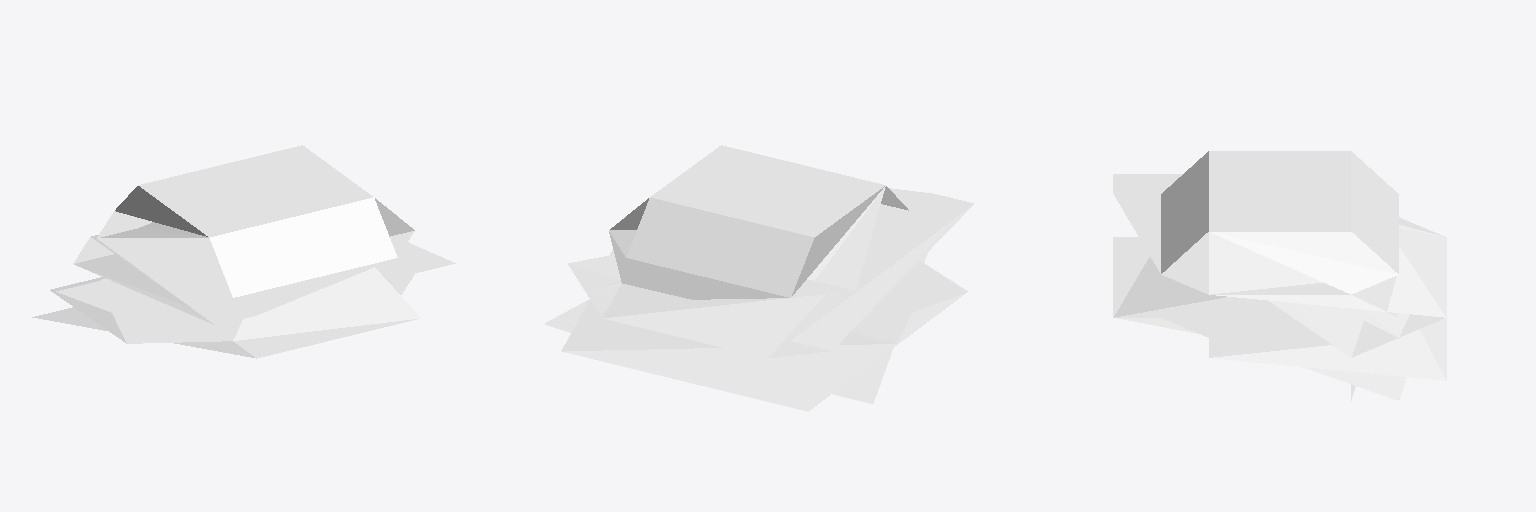
File: Character0_Run2.obj
The picture shows the model from 3 angles: view 1: azimuth 30°, elevation 25°; view 2: azimuth 150°, elevation 25°; view 3: azimuth 270°, elevation 25°; orthographic projection.
Bounding box in the file's own units: 8 × 3 × 7.